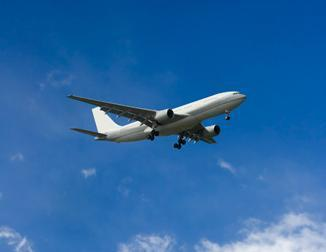aircraft: (68, 91, 246, 150)
